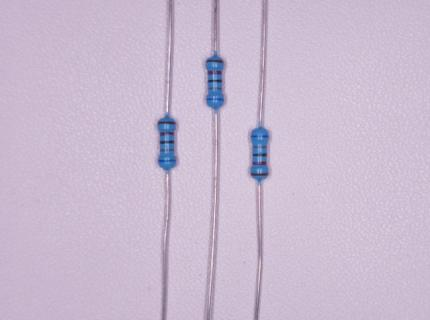Black band: (252, 153, 267, 157), (208, 79, 222, 83), (160, 141, 175, 144)
Blue band: (206, 98, 224, 102), (158, 159, 176, 163), (250, 135, 270, 138)
Brown band: (158, 121, 176, 125), (250, 173, 269, 176), (205, 60, 224, 63)
Grey band: (208, 87, 222, 91), (253, 146, 267, 149), (160, 149, 174, 152)
Red band: (207, 70, 222, 75), (252, 161, 267, 165), (160, 132, 174, 136)
